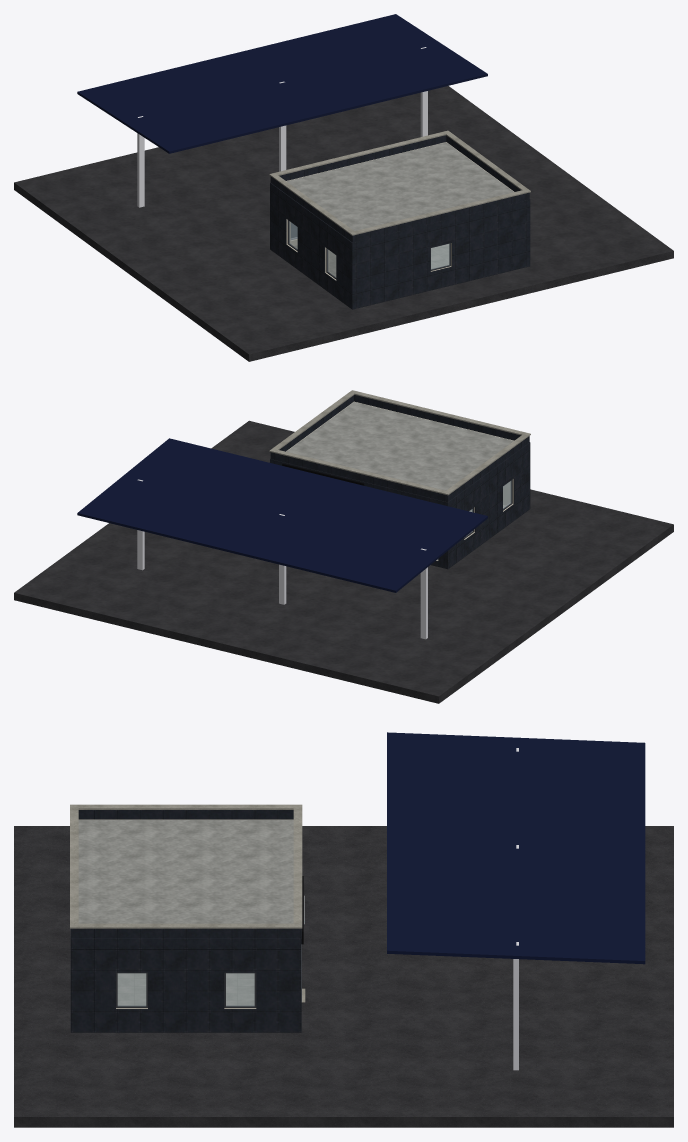
The model's file is b_ev_charging_hub.gltf.
3 views of the same model, one above another, from view 1: azimuth 30°, elevation 25°; view 2: azimuth 150°, elevation 25°; view 3: azimuth 270°, elevation 25° (orthographic). The views are drawn at different scales.
Visible parts, largest first — view 1: S_ev_charging_hub; view 2: S_ev_charging_hub; view 3: S_ev_charging_hub.
Boxes of the visible parts, left/top/right/bottom form: S_ev_charging_hub: left=14, top=14, right=673, bottom=361; S_ev_charging_hub: left=14, top=390, right=673, bottom=703; S_ev_charging_hub: left=14, top=732, right=673, bottom=1127.
Bounding box in the file's own units: 24 × 5.4 × 23.
Materials: 16 (7 with a texture image).
